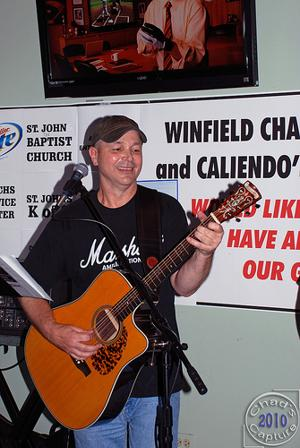person: (15, 115, 224, 448)
